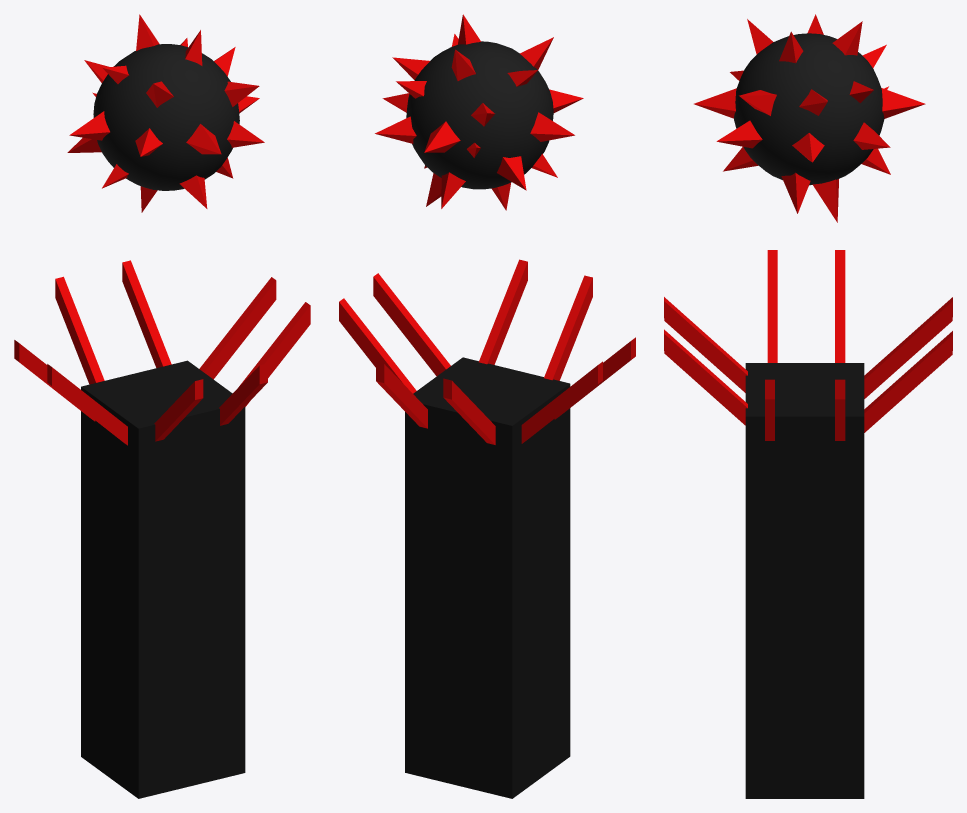
Rendered from Trap-4.fbx.
The picture shows the model from 3 angles, left to right: view 1: azimuth 30°, elevation 25°; view 2: azimuth 150°, elevation 25°; view 3: azimuth 270°, elevation 25°; orthographic projection. The views are drawn at different scales.
Parts seen in each view (by area): view 1: Cube, Ciircle, pCube19, pCube24, pCube25, pCube21, pCube18, pCube23, pCube22, pCube20, pPyramid83, pPyramid88 (+1 smaller); view 2: Cube, Ciircle, pCube18, pCube22, pCube23, pCube20, pCube19, pCube24, pCube25, pCube21, pPyramid88, pPyramid84 (+2 smaller); view 3: Cube, Ciircle, pCube25, pCube24, pCube22, pCube23, pCube20, pCube21, pPyramid84, pPyramid83, pPyramid98, pCube19 (+6 smaller).
Part boxes in pixels (<box>): Cube: <box>81,360,245,798</box>; Ciircle: <box>93,44,239,190</box>; pCube19: <box>199,277,276,379</box>; pCube24: <box>55,276,104,384</box>; pCube25: <box>122,260,171,367</box>; pCube21: <box>47,364,127,445</box>; pCube18: <box>239,302,310,406</box>; pCube23: <box>154,379,203,441</box>; pCube22: <box>219,363,267,425</box>; pCube20: <box>14,340,95,421</box>; pPyramid83: <box>186,124,221,154</box>; pPyramid88: <box>69,111,109,140</box>; Cube: <box>405,357,570,798</box>; Ciircle: <box>406,41,553,189</box>; pCube18: <box>373,273,450,376</box>; pCube22: <box>479,259,527,364</box>; pCube23: <box>544,275,592,380</box>; pCube20: <box>521,361,602,443</box>; pCube19: <box>339,298,416,393</box>; pCube24: <box>443,378,495,444</box>; pCube25: <box>376,362,427,428</box>; pCube21: <box>554,337,635,419</box>; pPyramid88: <box>530,112,574,141</box>; pPyramid84: <box>424,121,460,152</box>; Cube: <box>745,363,864,798</box>; Ciircle: <box>734,33,884,185</box>; pCube25: <box>864,331,952,432</box>; pCube24: <box>864,297,952,398</box>; pCube22: <box>664,329,747,425</box>; pCube23: <box>664,297,747,392</box>; pCube20: <box>835,250,845,362</box>; pCube21: <box>767,250,777,362</box>; pPyramid84: <box>881,88,925,118</box>; pPyramid83: <box>694,88,736,118</box>; pPyramid98: <box>716,120,762,148</box>; pCube19: <box>835,379,845,440</box>.
Bounding box in the file's own units: 6.2 × 16.89 × 5.84.
